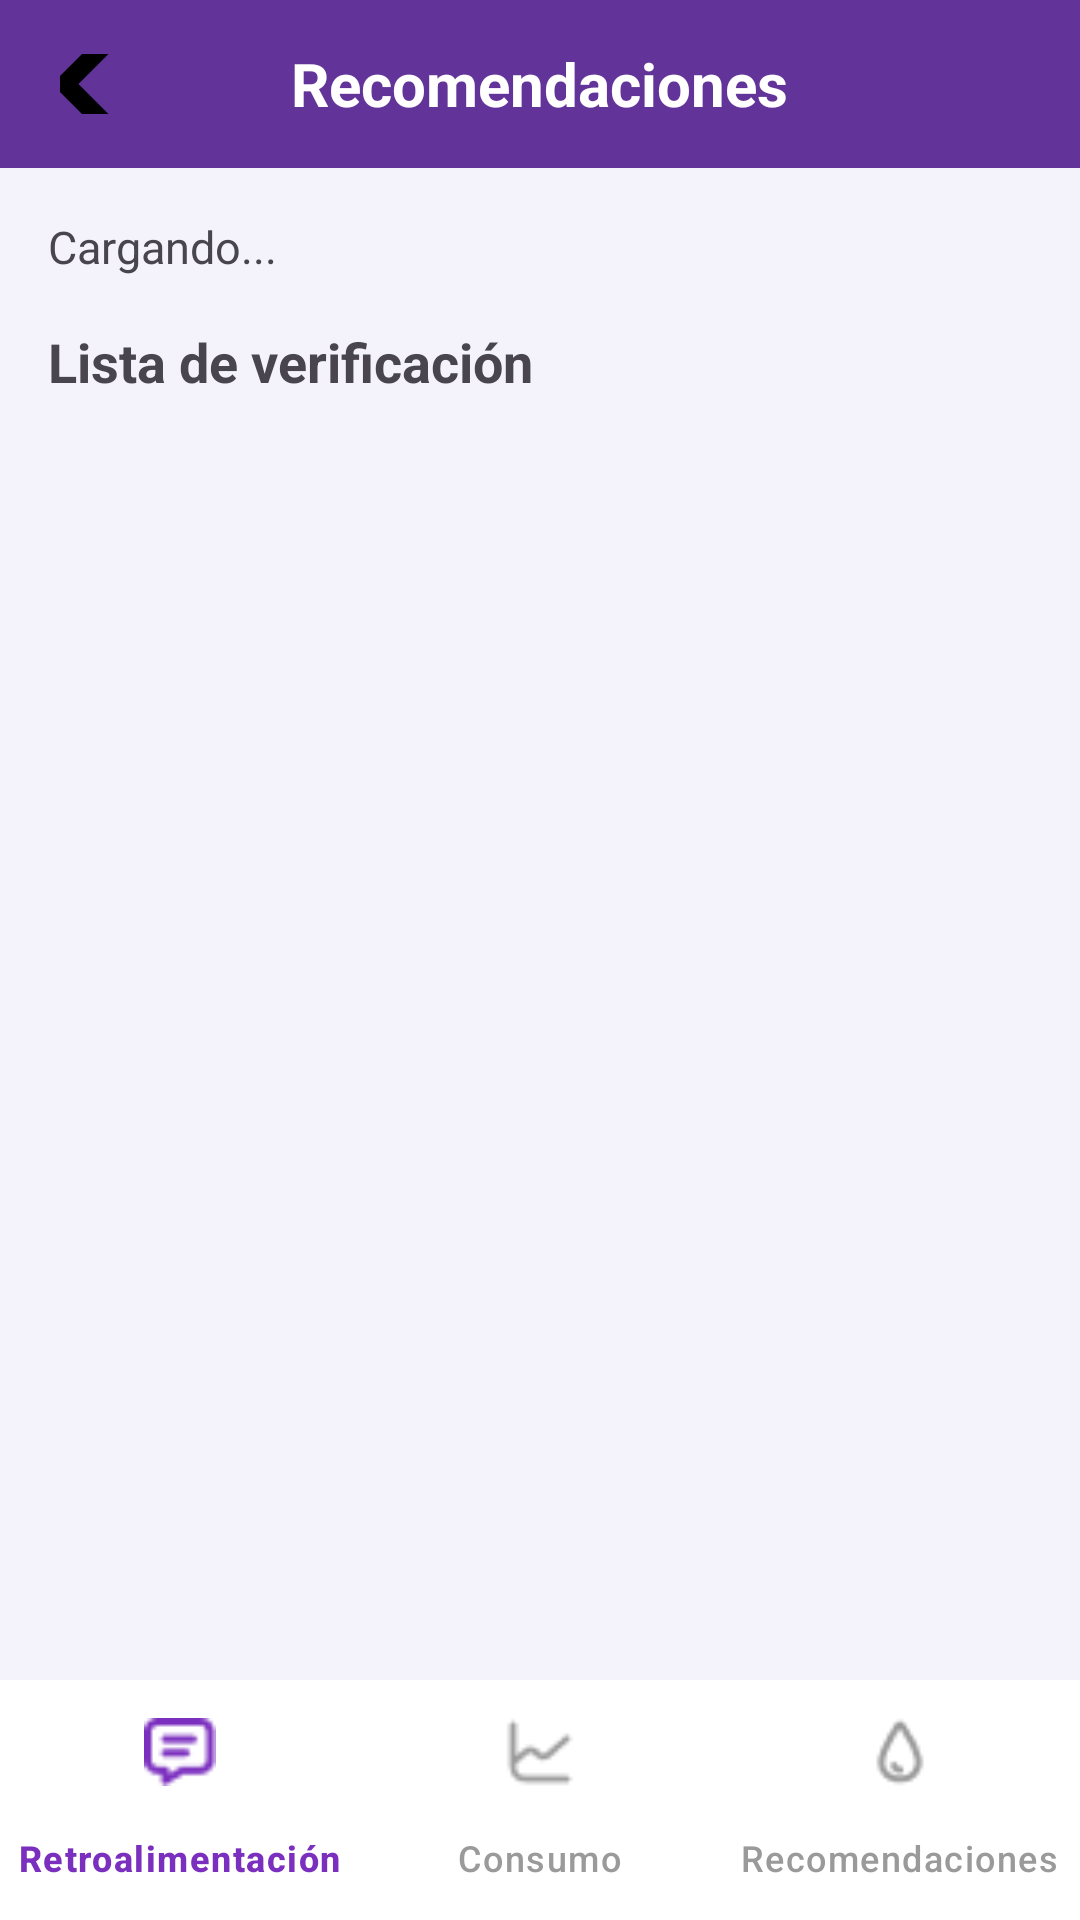

Where to tap for icons on this 1080px x 1920px app screen, as (x=x, y=y):
back: (x=84, y=84)
